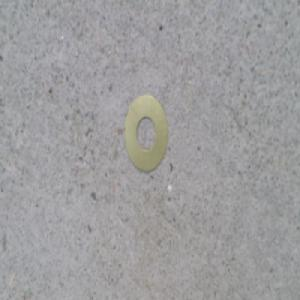Washer: (124, 101, 169, 178)
